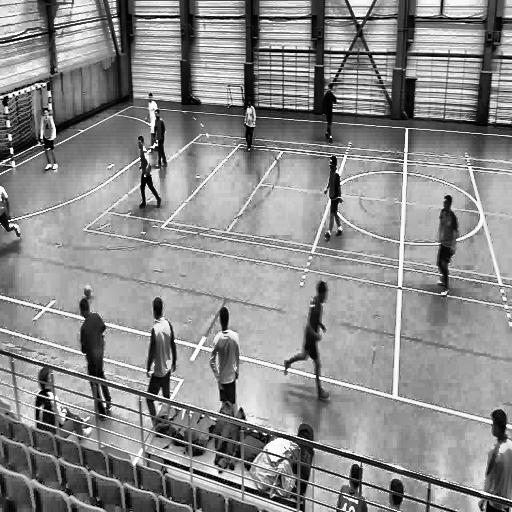ball: (83, 283, 93, 300)
player: (283, 281, 332, 404), (79, 300, 114, 419), (142, 295, 174, 425), (208, 302, 239, 415), (436, 194, 458, 306), (133, 134, 163, 210), (322, 151, 344, 247), (38, 106, 60, 172), (152, 110, 169, 168), (143, 92, 160, 149), (322, 81, 337, 145), (244, 96, 258, 153)
